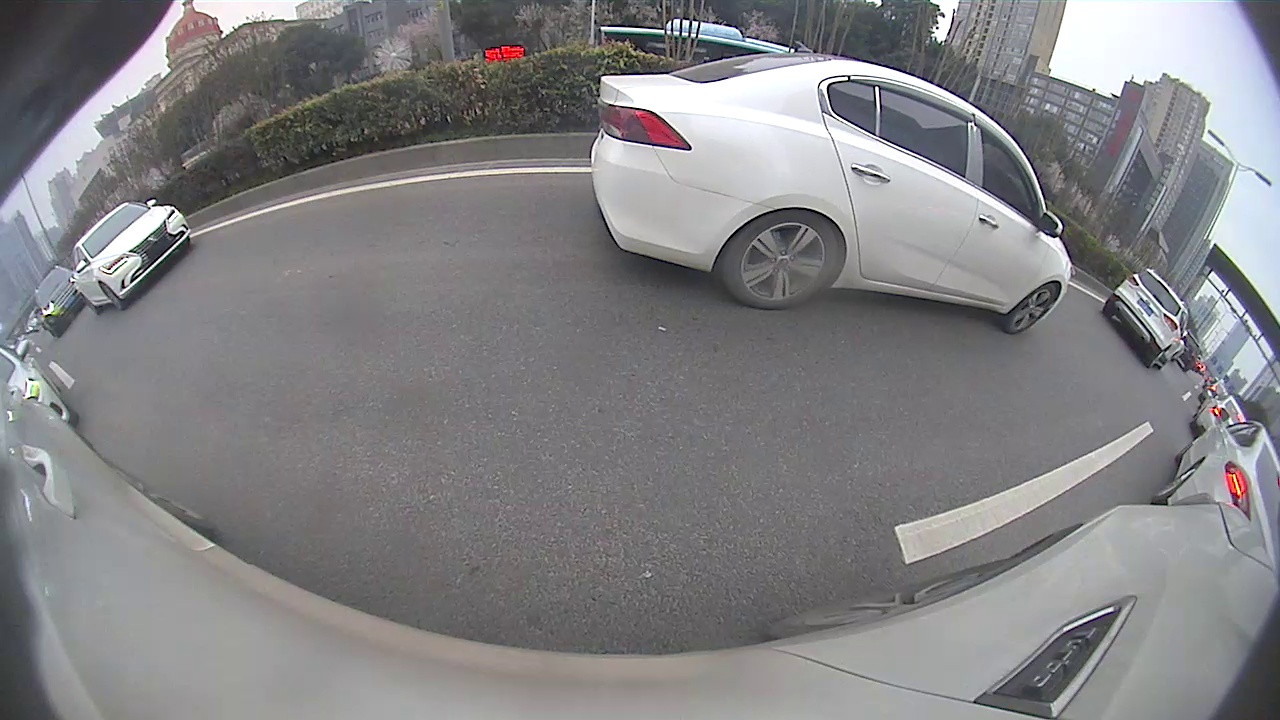car: (589, 39, 1076, 335), (1148, 409, 1277, 545), (70, 199, 195, 314), (1101, 264, 1191, 372)
front: (1003, 282, 1060, 335), (100, 282, 124, 313)
rear: (722, 208, 840, 310)
